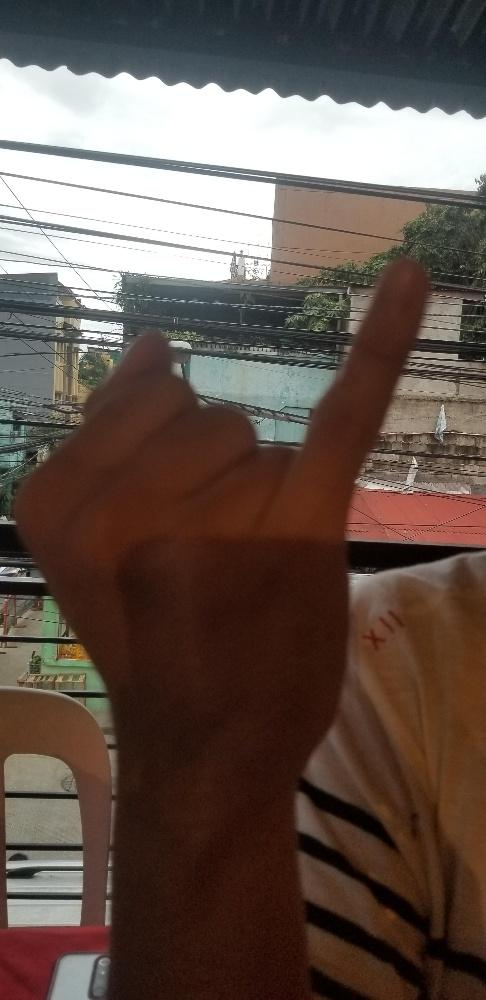j: (13, 255, 428, 762)
